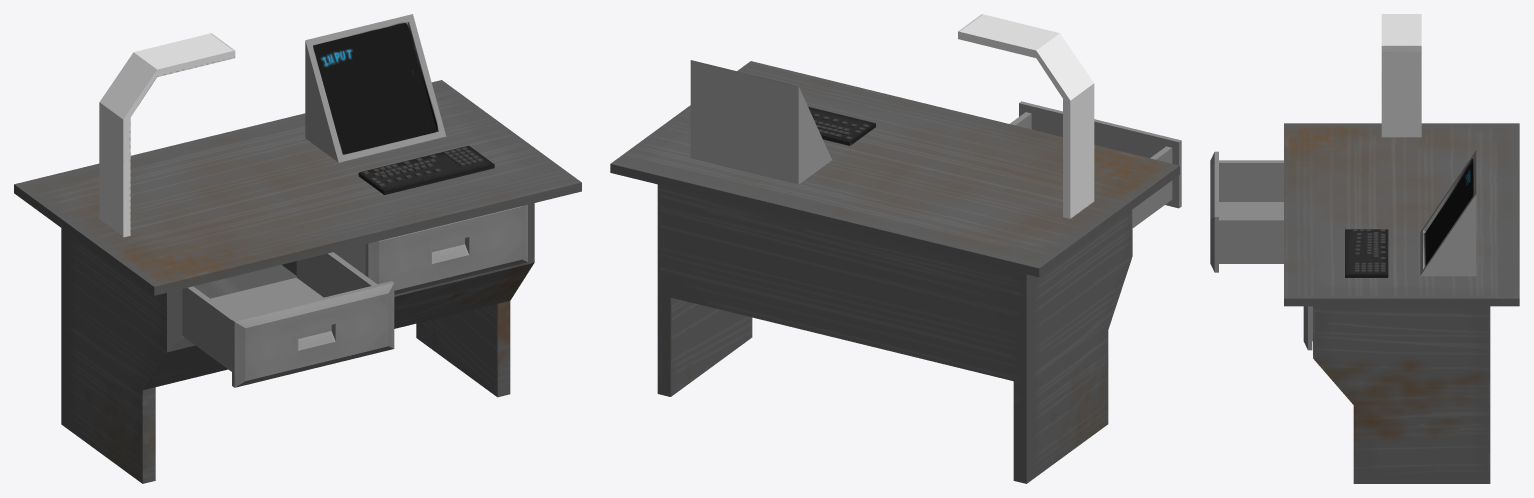
Rendered from Med Bay Desk.fbx.
3 views of the same model, side by side, from view 1: azimuth 30°, elevation 25°; view 2: azimuth 150°, elevation 25°; view 3: azimuth 270°, elevation 25° (orthographic). The views are drawn at different scales.
Parts seen in each view (by area): view 1: Desk (×2), Desk_computer, Desk_lamp, Desk_keyboard_base; view 2: Desk (×2), Desk_computer, Desk_lamp, Desk_keyboard_base; view 3: Desk (×2), Desk_lamp, Desk_computer, Desk_keyboard_base.
Boxes of the visible parts, bbox=[...] form: Desk (×2): bbox=[14, 80, 581, 483]; Desk_computer: bbox=[305, 14, 446, 162]; Desk_lamp: bbox=[99, 33, 235, 237]; Desk_keyboard_base: bbox=[358, 145, 494, 194]; Desk (×2): bbox=[610, 61, 1181, 483]; Desk_computer: bbox=[690, 60, 831, 184]; Desk_lamp: bbox=[958, 14, 1094, 218]; Desk_keyboard_base: bbox=[808, 107, 875, 145]; Desk (×2): bbox=[1210, 123, 1519, 483]; Desk_lamp: bbox=[1381, 14, 1421, 137]; Desk_computer: bbox=[1420, 150, 1476, 276]; Desk_keyboard_base: bbox=[1345, 229, 1388, 277].
Size of the model in its own units: 33 by 29.09 by 24.56.
1 material, 1 textured.
